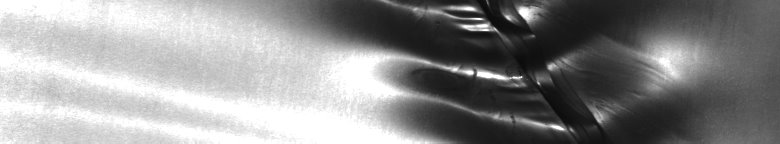ke: (376, 4, 640, 136)
